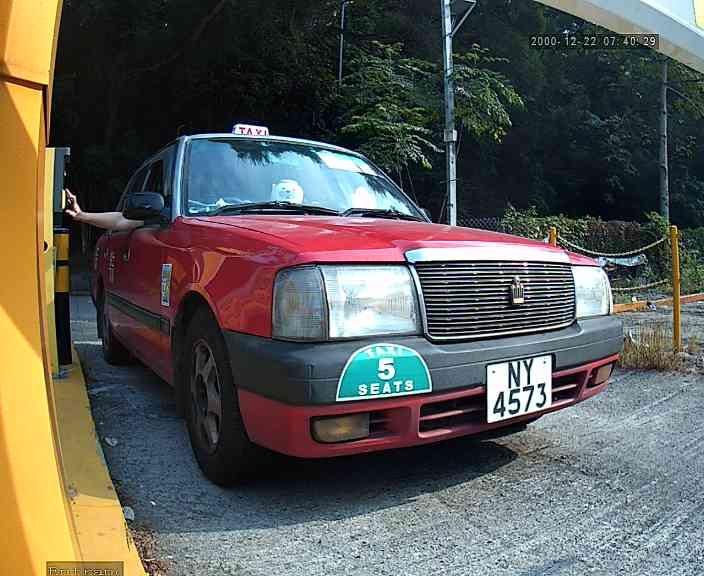Car: (92, 26, 588, 502)
License Plate: (475, 358, 563, 425)
